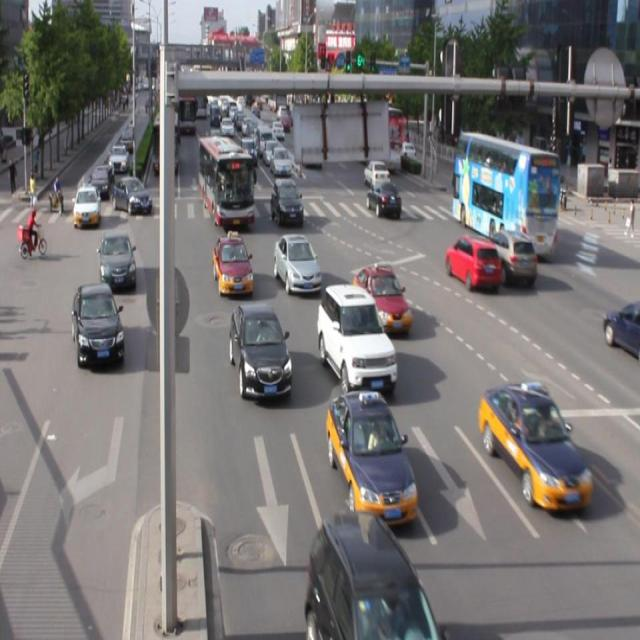car: (306, 511, 438, 640), (479, 380, 592, 509), (326, 390, 417, 524), (318, 281, 396, 392), (230, 301, 292, 402), (72, 282, 124, 367), (352, 261, 410, 334), (444, 234, 501, 289), (274, 232, 322, 295), (482, 229, 536, 284), (212, 235, 253, 296), (100, 228, 137, 292)
van: (451, 130, 558, 258)
